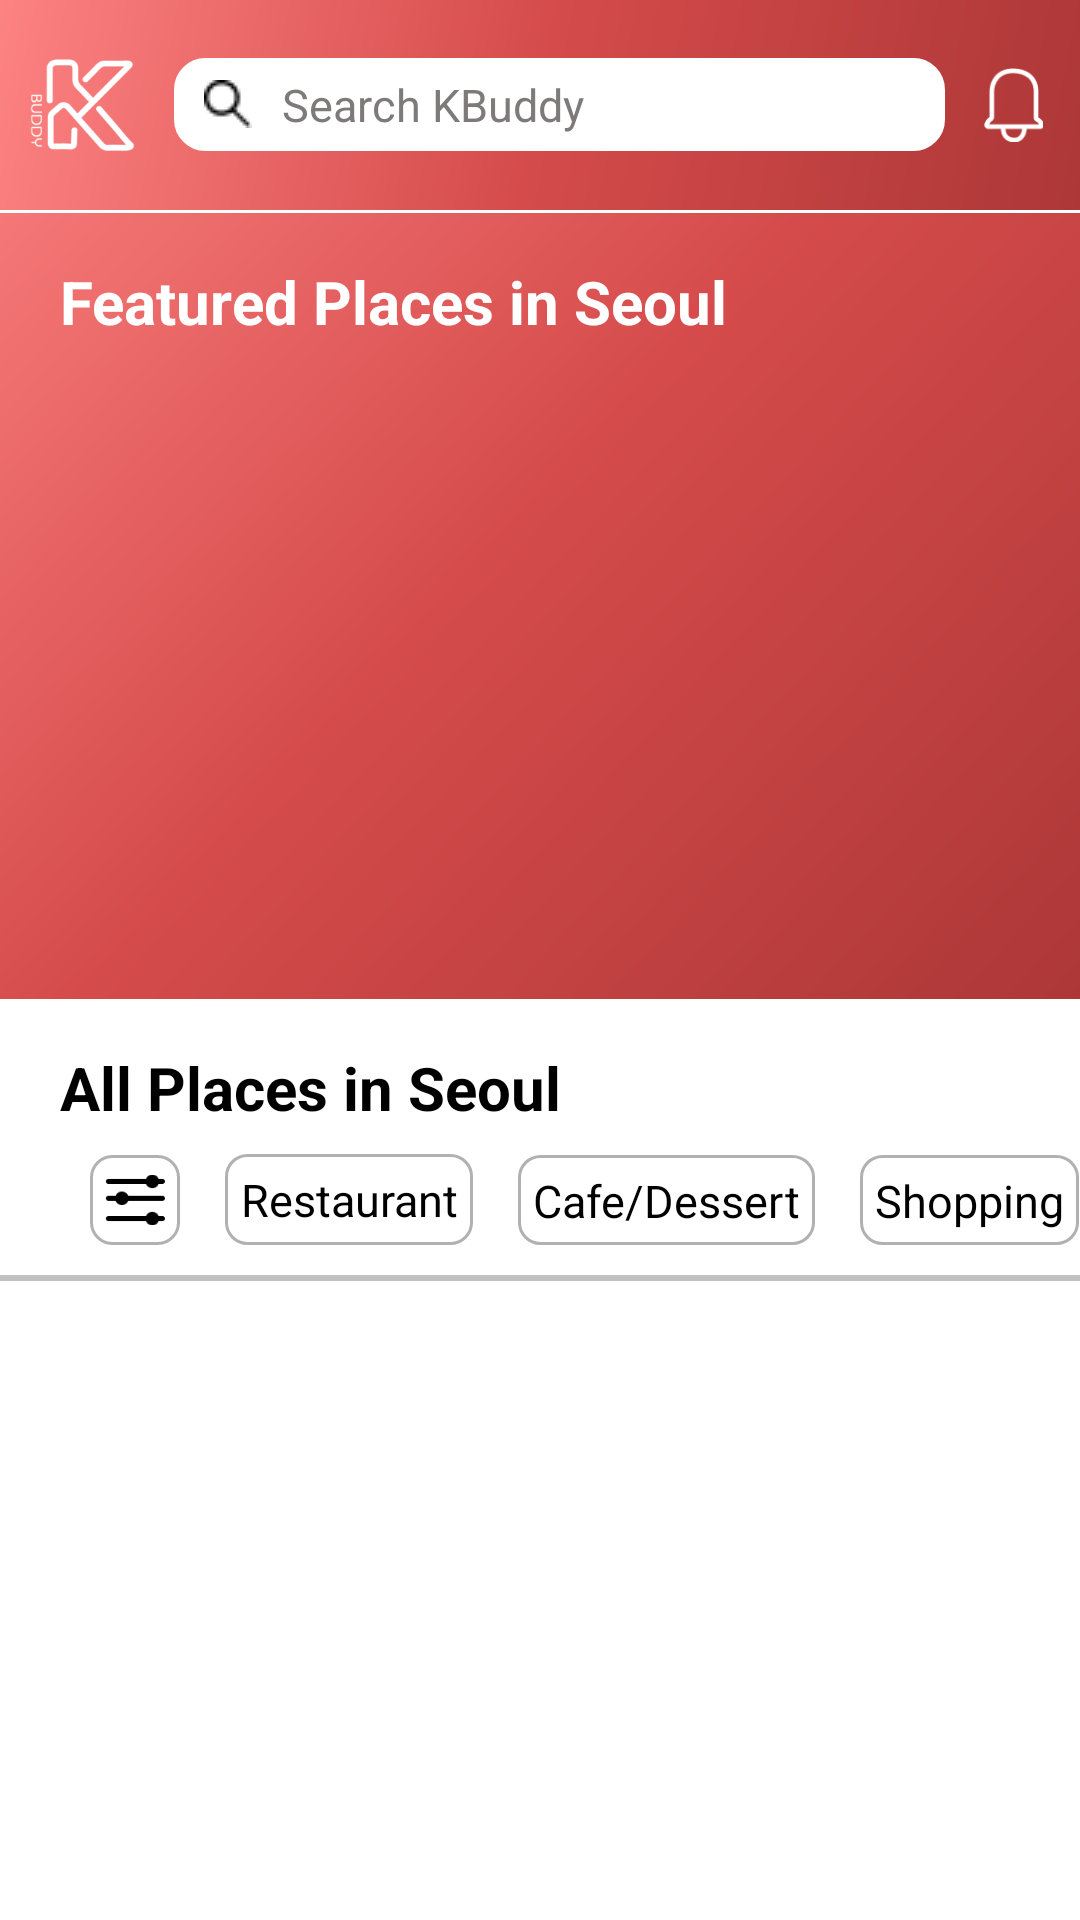

Named icons in this screenshot (1080w x 1920h) and their centers, point (x, y):
filter: point (135, 1200)
